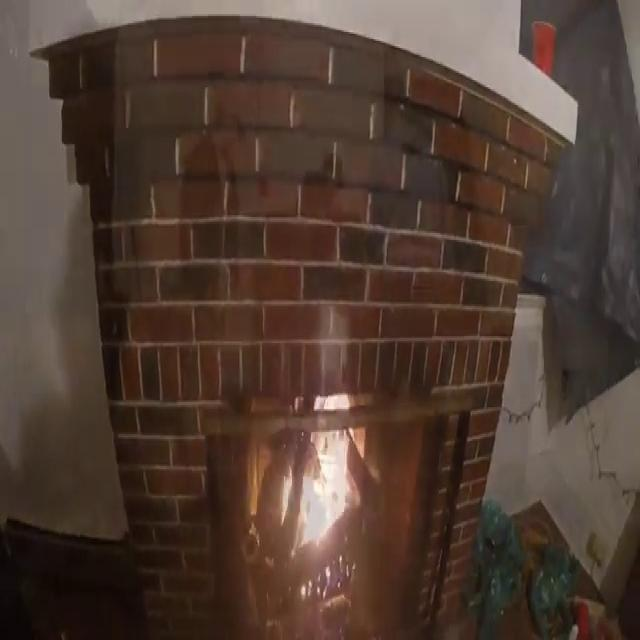fire: (291, 356, 369, 573)
